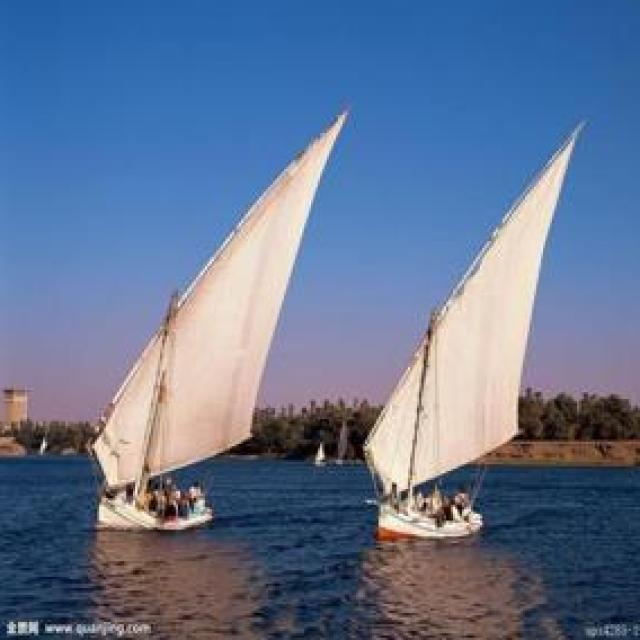sailboat: (81, 95, 353, 537), (356, 111, 586, 538)
